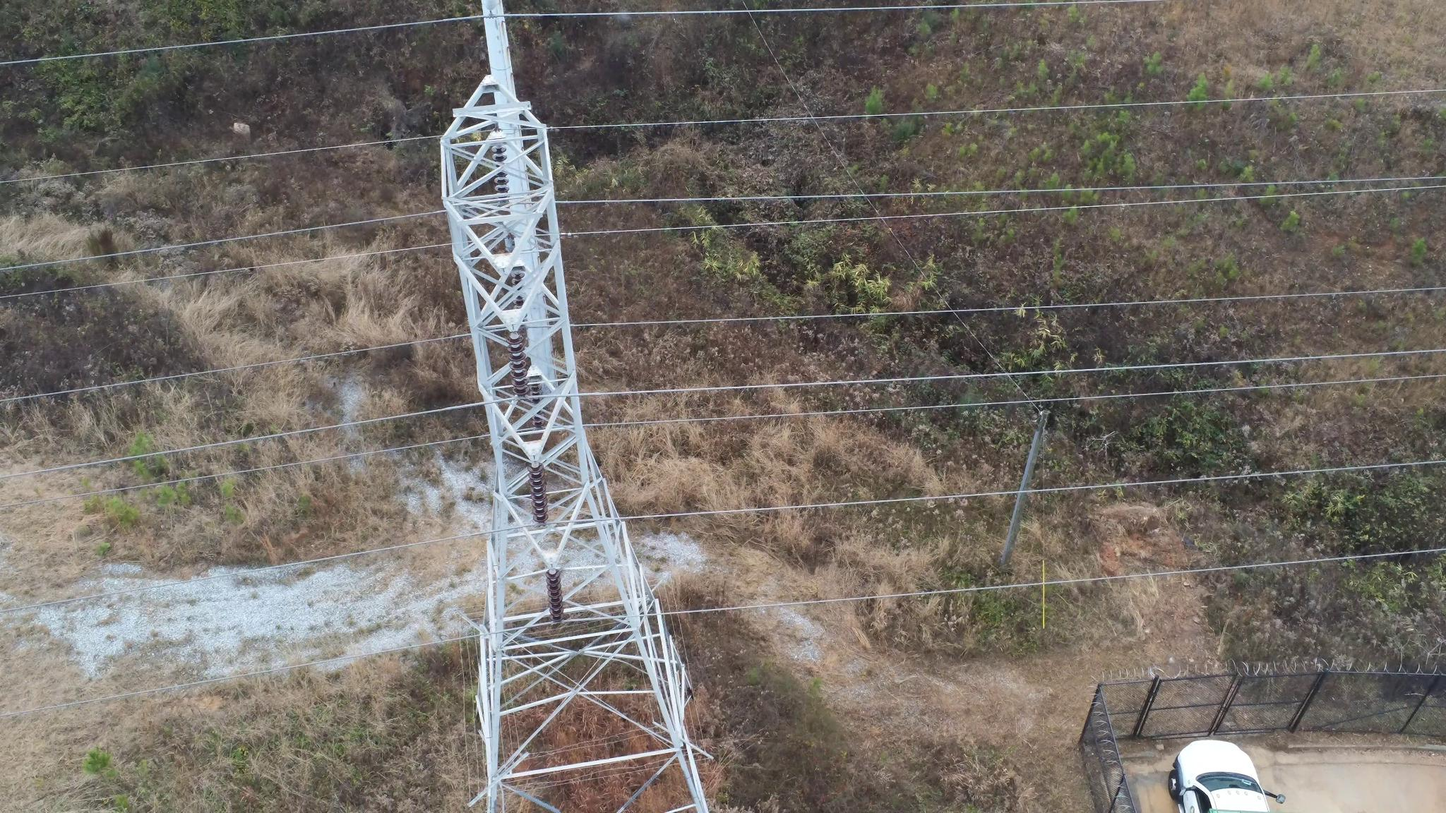tower: (437, 72, 711, 813)
